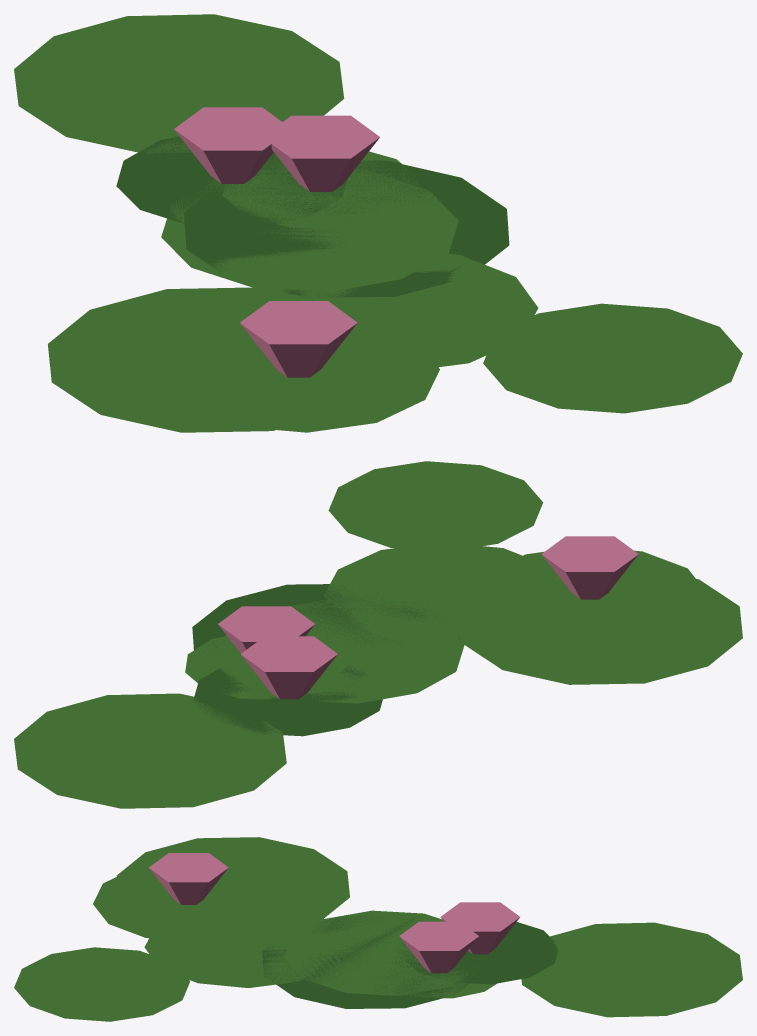
The model's file is teratai.fbx.
3 renders of one model, top to bottom at view 1: azimuth 30°, elevation 25°; view 2: azimuth 150°, elevation 25°; view 3: azimuth 270°, elevation 25°, orthographic. The views are drawn at different scales.
Visible parts, largest first — view 1: teratai; view 2: teratai; view 3: teratai.
Part boxes in pixels (x1,y1,x2,y2): teratai: [14, 14, 742, 432]; teratai: [14, 461, 742, 808]; teratai: [14, 837, 742, 1021].
Bounding box in the file's own units: 1.75 × 0.15 × 2.91.
